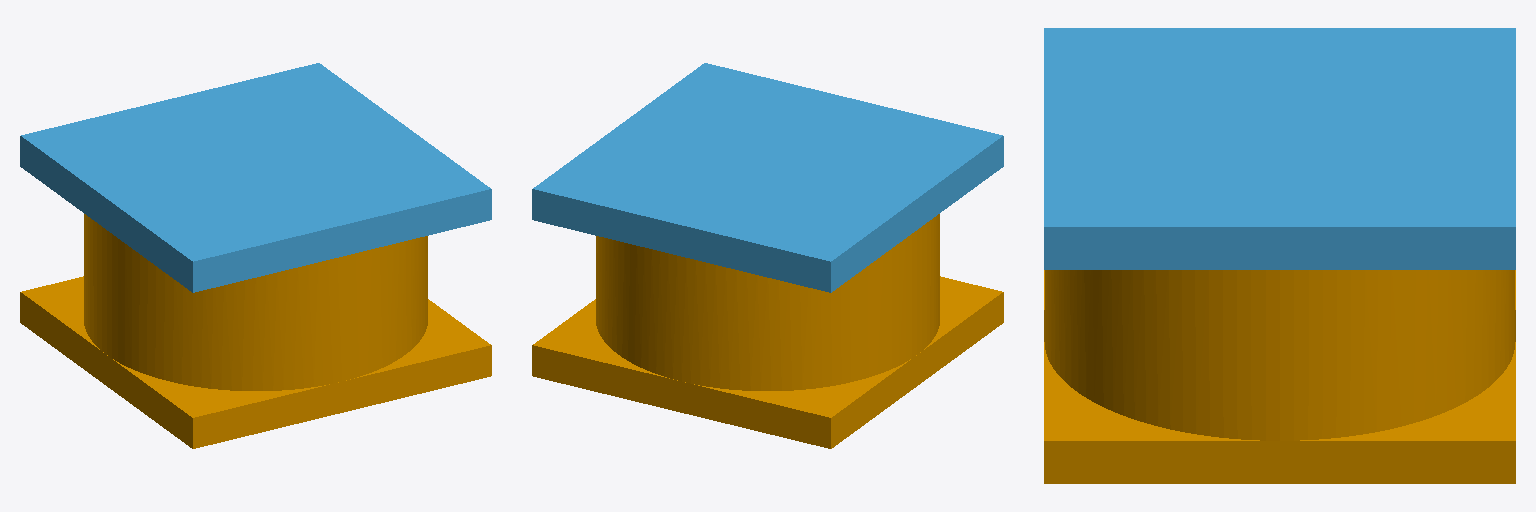
robot.urdf — isaac_sim_test:
<?xml version="1.0" ?>
<robot name="isaac_sim_test" xmlns:xacro="http://www.ros.org/wiki/xacro">

<link name="base_link">
  <inertial>
    <origin xyz="2.0324240097617325e-17 6.774746699205776e-18 0.012551087228986178" rpy="0 0 0"/>
    <mass value="2.6346126748009913"/>
    <inertia ixx="0.002697" iyy="0.002697" izz="0.004198" ixy="0.0" iyz="0.0" ixz="0.0"/>
  </inertial>
  <visual>
    <origin xyz="0 0 0" rpy="0 0 0"/>
    <geometry>
      <mesh filename="../meshes/base_link.stl" scale="0.001 0.001 0.001"/>
    </geometry>
    <material name="silver"/>
  </visual>
  <collision>
    <origin xyz="0 0 0" rpy="0 0 0"/>
    <geometry>
      <mesh filename="../meshes/base_link.stl" scale="0.001 0.001 0.001"/>
    </geometry>
  </collision>
</link>

<link name="hoge_link_1">
  <inertial>
    <origin xyz="0.0 1.9102770471984883e-17 0.034002478837788945" rpy="0 0 0"/>
    <mass value="1.4015375582669964"/>
    <inertia ixx="0.001055" iyy="0.001055" izz="0.001501" ixy="0.0" iyz="0.0" ixz="-0.0"/>
  </inertial>
  <visual>
    <origin xyz="-0.0 -0.0 -0.0" rpy="0 0 0"/>
    <geometry>
      <mesh filename="../meshes/hoge_link_1.stl" scale="0.001 0.001 0.001"/>
    </geometry>
    <material name="silver"/>
  </visual>
  <collision>
    <origin xyz="-0.0 -0.0 -0.0" rpy="0 0 0"/>
    <geometry>
      <mesh filename="../meshes/hoge_link_1.stl" scale="0.001 0.001 0.001"/>
    </geometry>
  </collision>
</link>

<joint name="joint_1" type="continuous">
  <origin xyz="0.0 0.0 0.0" rpy="0 0 0"/>
  <parent link="base_link"/>
  <child link="hoge_link_1"/>
  <axis xyz="0.0 0.0 1.0"/>
</joint>

</robot>

--- Render facts (derived) ---
3 views of the same robot in one strip: view 1: azimuth 30°, elevation 25°; view 2: azimuth 150°, elevation 25°; view 3: azimuth 270°, elevation 25° (orthographic).
Robot: isaac_sim_test — 2 links, 1 joints (1 continuous); root link base_link; default pose: all joints at 0.
Links seen in each view (by area): view 1: hoge_link_1, base_link; view 2: hoge_link_1, base_link; view 3: hoge_link_1, base_link.
Link boxes in pixels (bbox=[...]): hoge_link_1: bbox=[20, 63, 491, 292]; base_link: bbox=[20, 214, 491, 448]; hoge_link_1: bbox=[532, 63, 1003, 292]; base_link: bbox=[532, 214, 1003, 448]; hoge_link_1: bbox=[1044, 28, 1515, 269]; base_link: bbox=[1044, 270, 1515, 483].
Size in the robot's own frame: 0.1 by 0.1 by 0.06 metres.
2 mesh visuals loaded from 2 distinct referenced files (2 binary STL).
